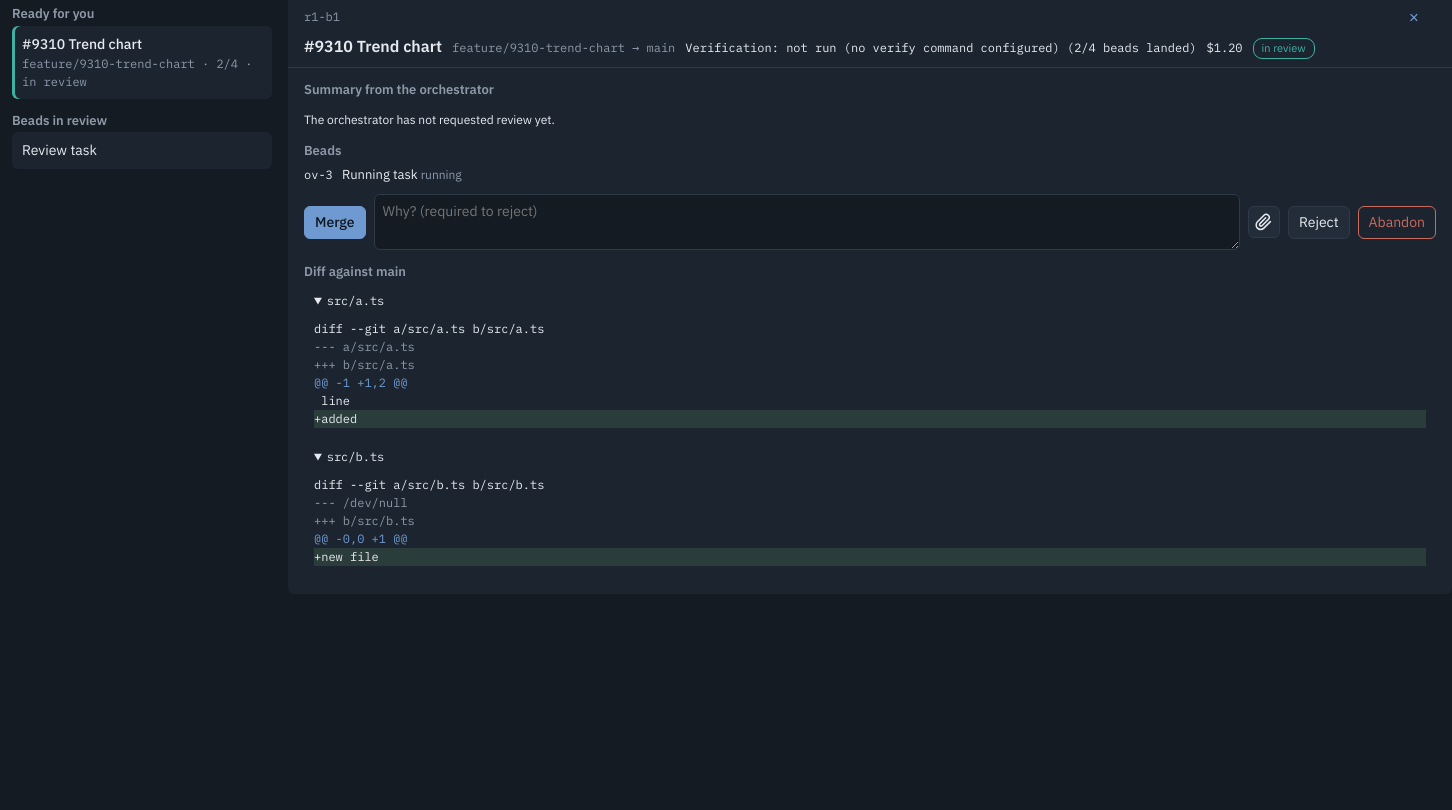
Test: Review › asks in the pane before merging and does nothing when the user cancels
The width and height of the screenshot is (1452, 810).
Click the button "Merge": [335, 222] box [304, 206, 366, 238]
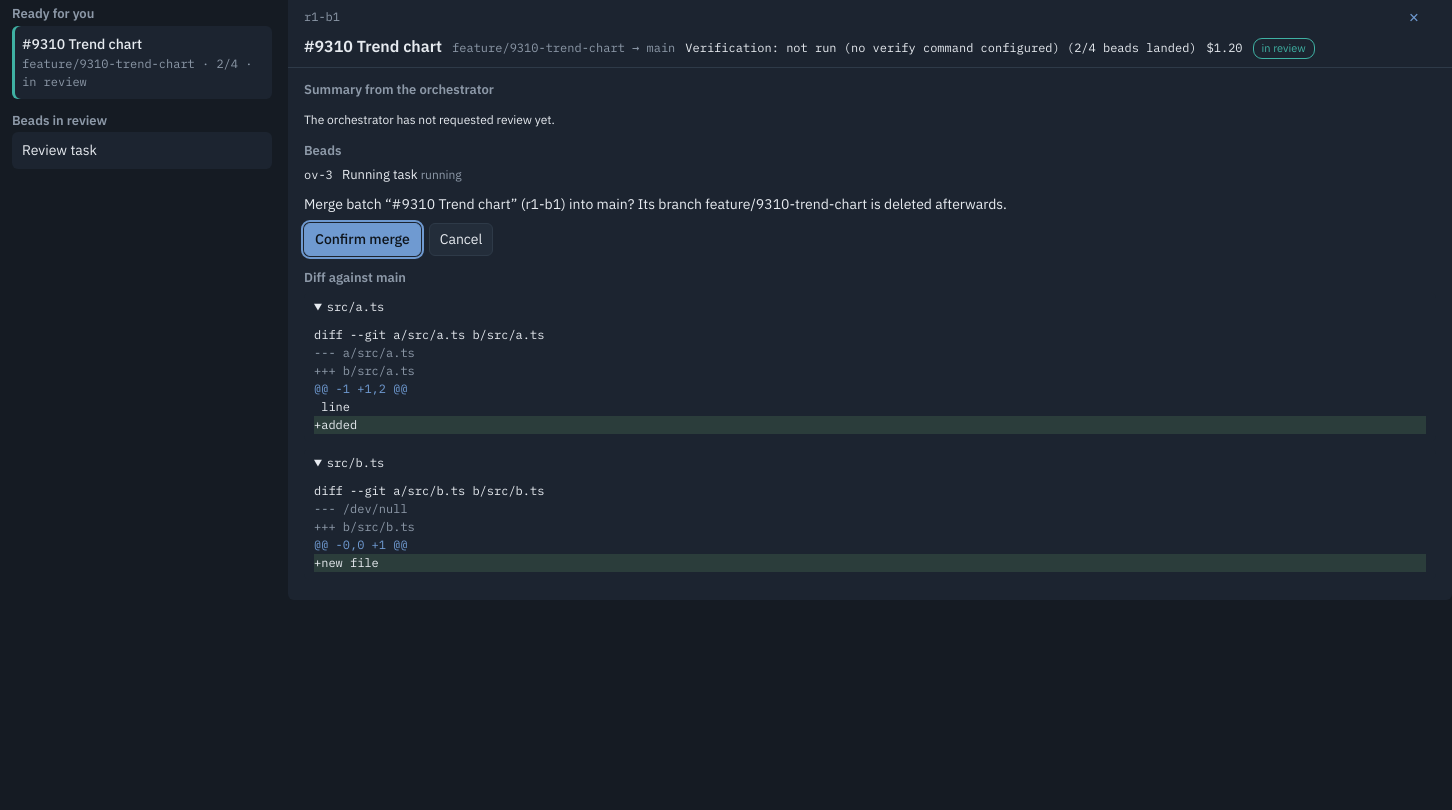
Expected: the text "Merge batch “#9310 Trend chart” (r1-b1) into main? Its branch feature/9310-trend-chart is deleted afterwards." is shown, [304, 195, 1007, 213]
Click the button "Cancel": [461, 240] box [429, 223, 493, 256]
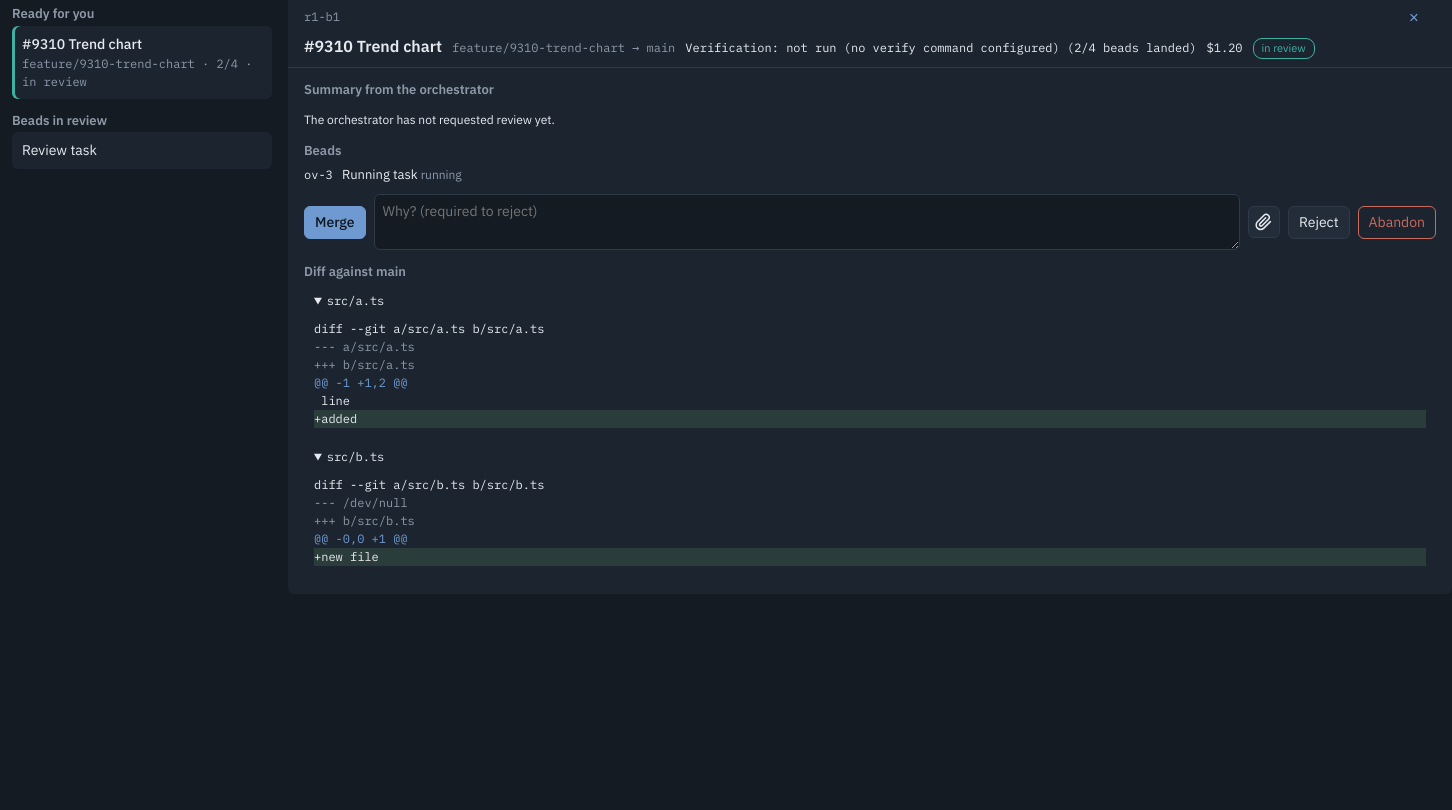
Expected: the text "into main?" is gone
Click the button "Merge": [335, 222] box [304, 206, 366, 238]
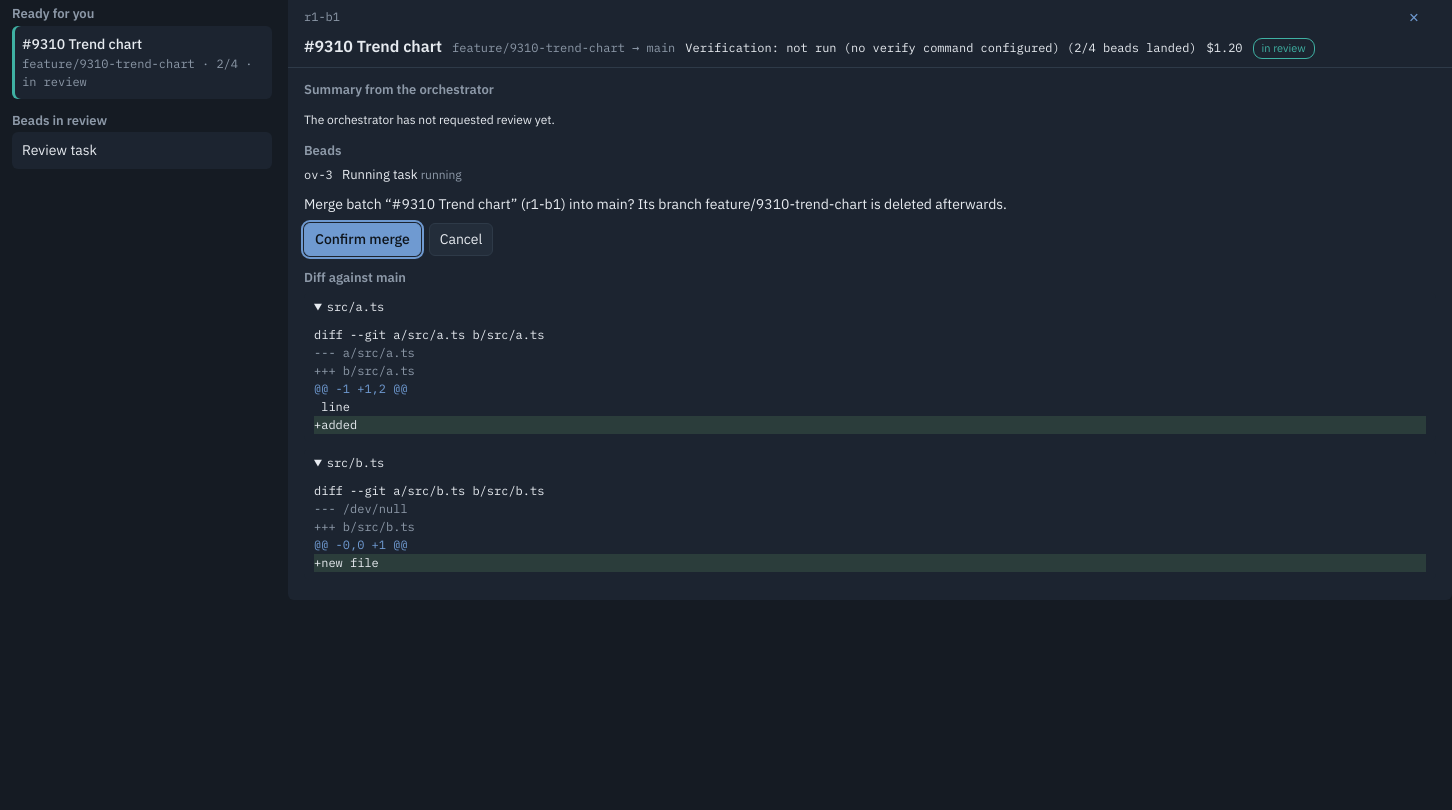
Press Escape
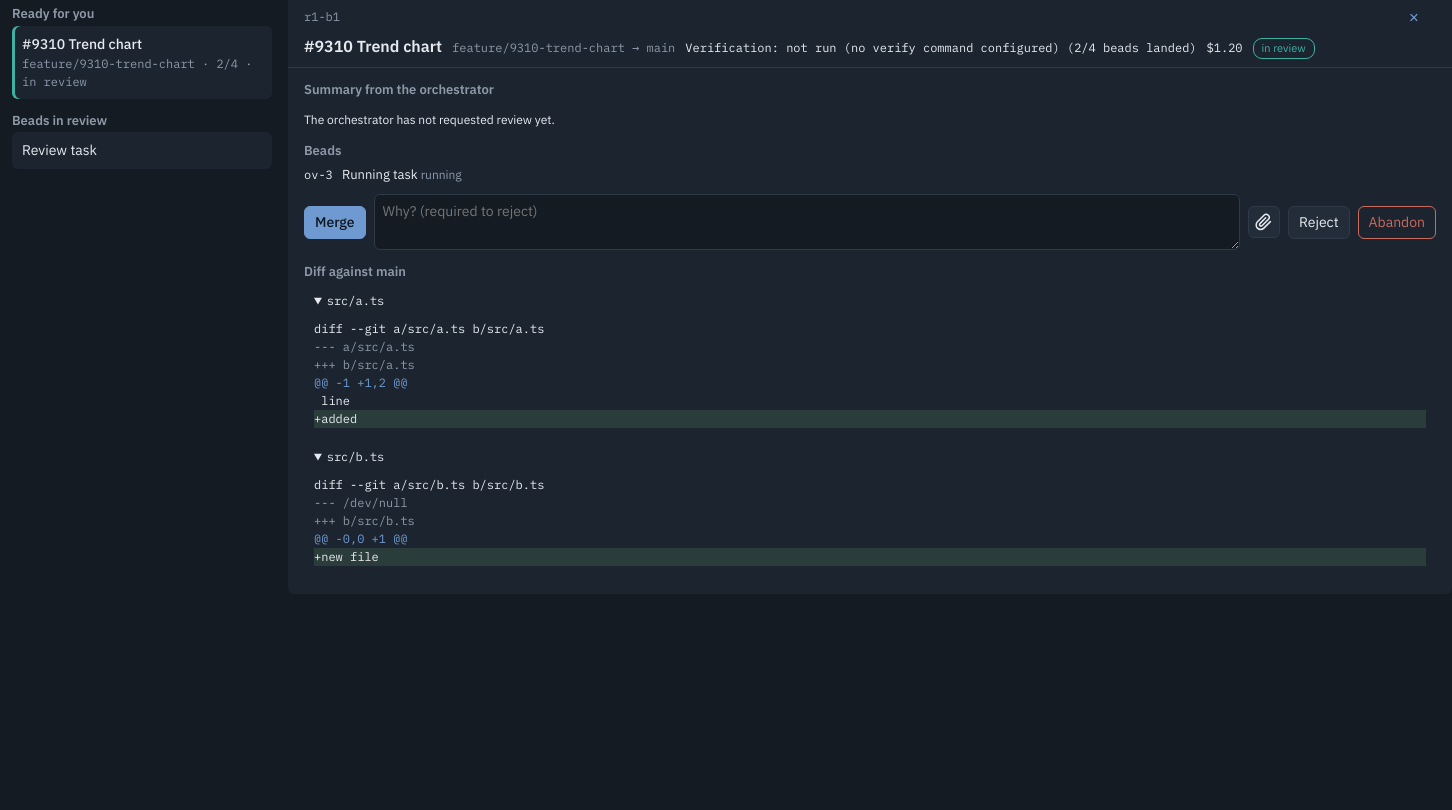
Expected: the text "into main?" is gone
